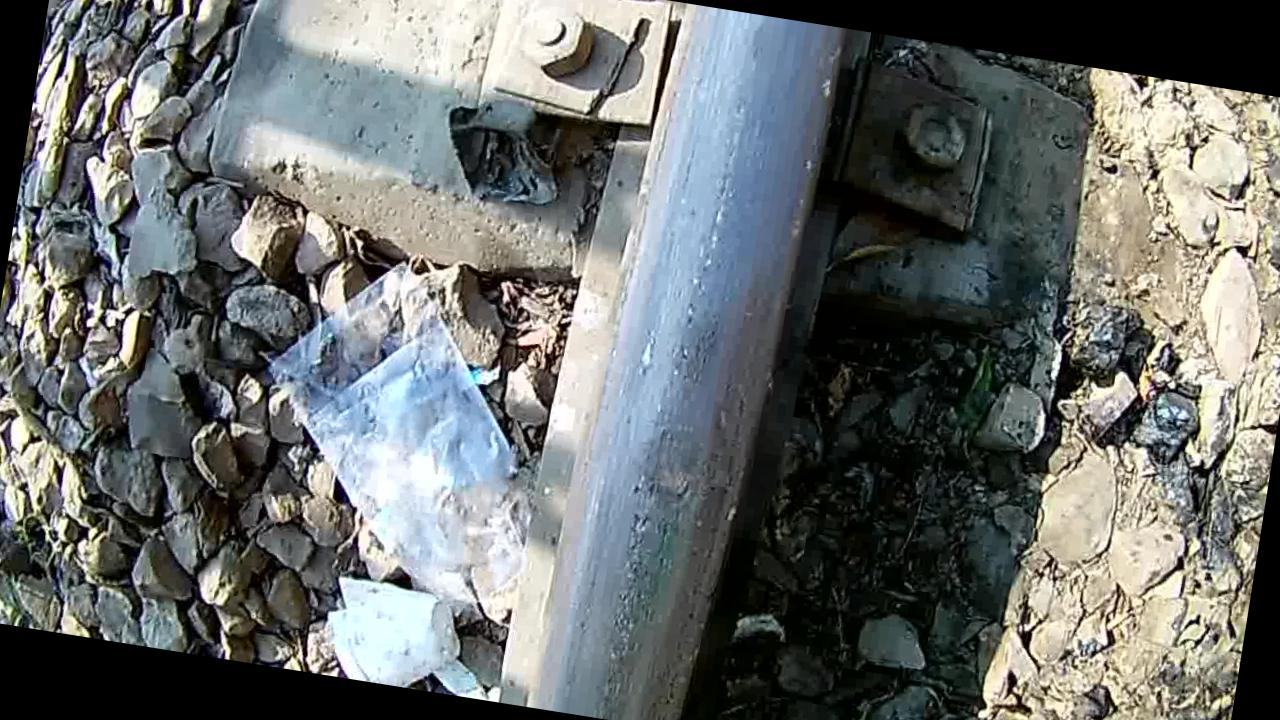bolt_missing: (590, 356, 756, 598)
